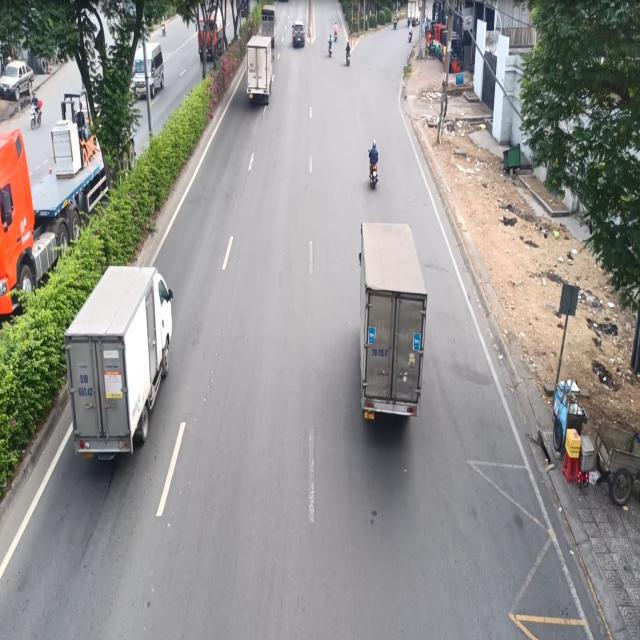car: (290, 14, 308, 52)
motor: (365, 130, 380, 193)
truck: (62, 253, 177, 469), (350, 216, 430, 437), (245, 31, 275, 111)
